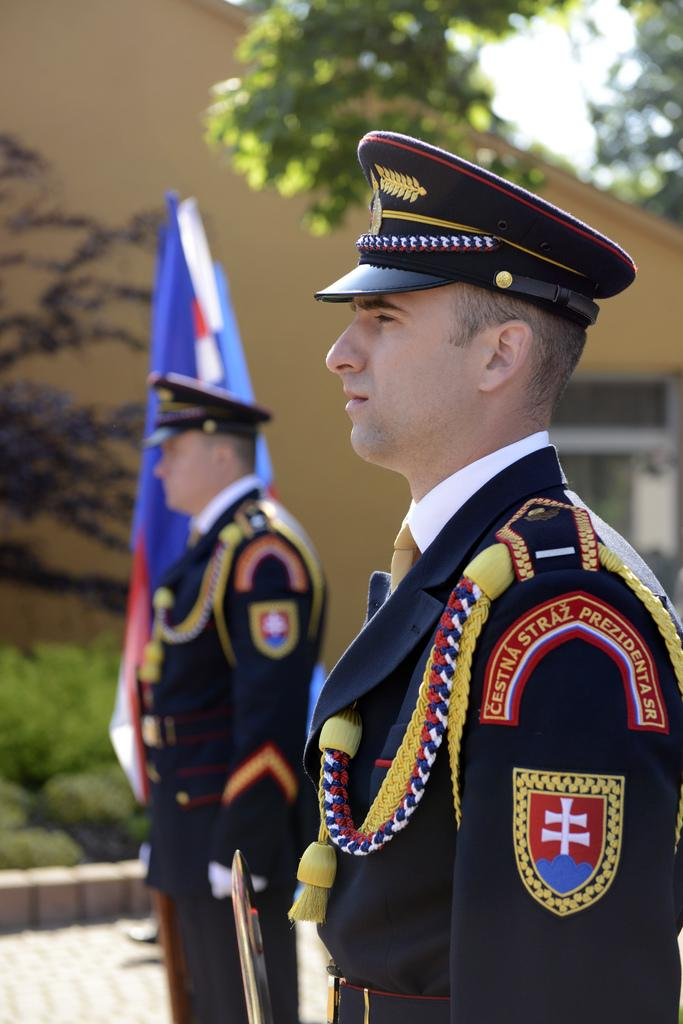Hat: (310, 126, 637, 332), (139, 369, 274, 450)
